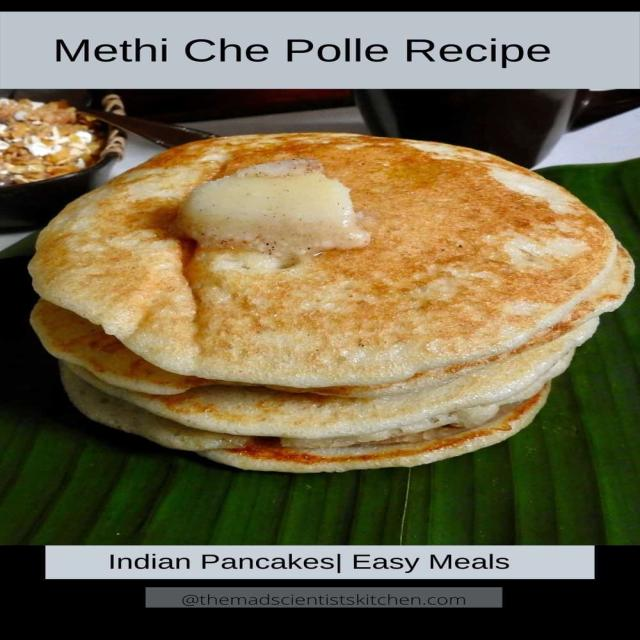DOSA: (31, 135, 614, 387)
